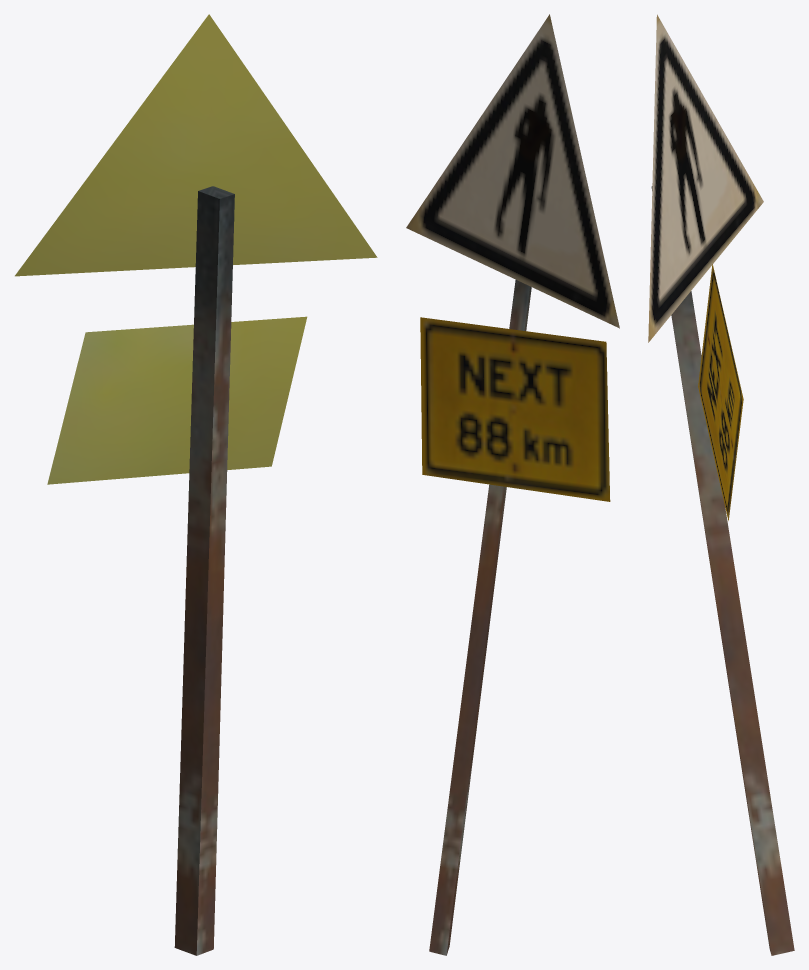
Rendered from sign1.fbx.
3 views of the same model, side by side, from view 1: azimuth 30°, elevation 25°; view 2: azimuth 150°, elevation 25°; view 3: azimuth 270°, elevation 25° (orthographic). The views are drawn at different scales.
Parts seen in each view (by area): view 1: sign01; view 2: sign01; view 3: sign01.
Part boxes in pixels (x1,y1,x2,y2): sign01: [15, 14, 377, 955]; sign01: [406, 14, 619, 955]; sign01: [648, 14, 794, 955].
Bounding box in the file's own units: 95.1 × 303 × 43.95.
Materials: 1 (1 with a texture image).
